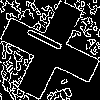I: (25, 25, 72, 57)
